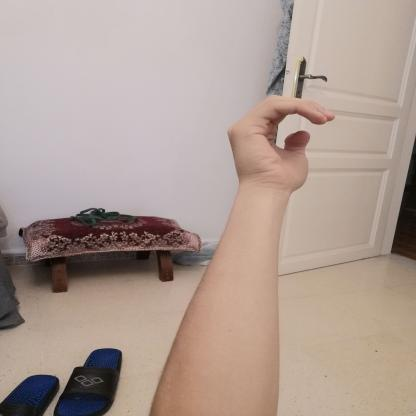JEEM: (214, 84, 348, 202)
